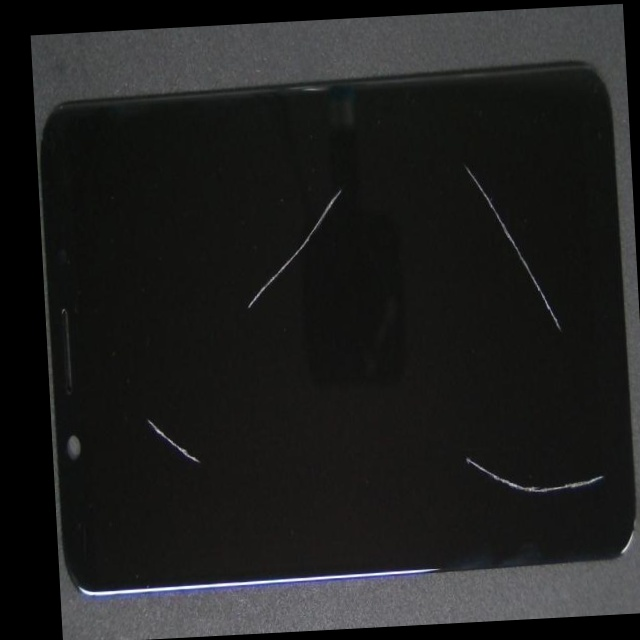scratch: (237, 30, 441, 313)
